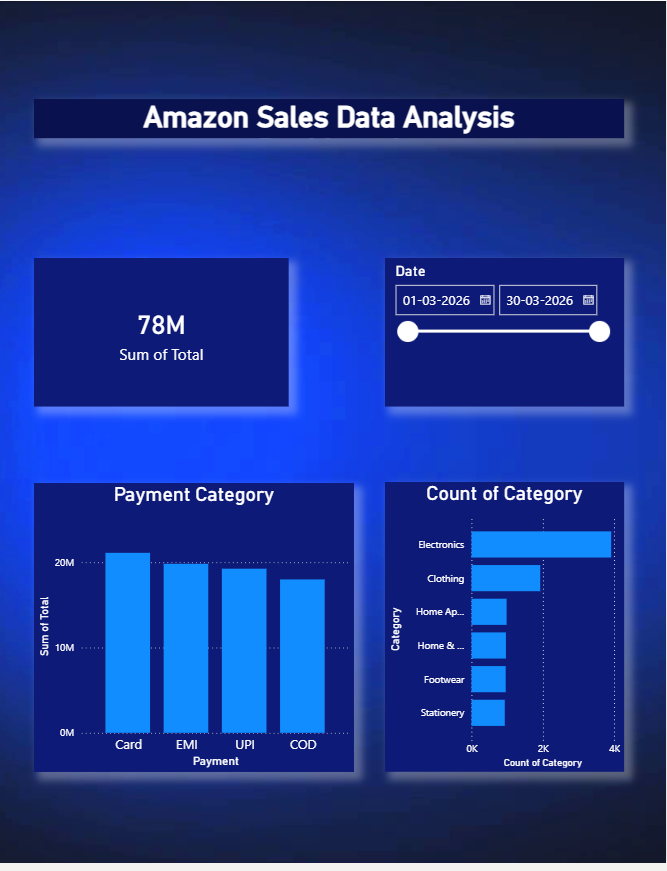

Layout of this report page (visuals, bound fields, positions):
{"tool":"powerbi","page":{"name":"Page 1","canvas":[816,1056],"ordinal":0},"visuals":[{"type":"slicer","fields":{"Values":["Sheet.Date"]},"box":[473.4,314.7,292.6,182.1],"z":0},{"type":"barChart","title":"Count of Category ","fields":{"Category":["Sheet.Category"],"Y":["CountNonNull(Sheet.Category)"]},"box":[472.9,589.3,292.8,355.3],"z":1000},{"type":"columnChart","title":"Payment Category","fields":{"Category":["Sheet.Payment"],"Y":["Sum(Sheet.Total)"]},"box":[42.9,590.5,392,354],"z":2000},{"type":"card","fields":{"Values":["Sum(Sheet.Total)"]},"box":[42.9,314.7,312.1,182.1],"z":3000},{"type":"textbox","title":"Amazon Sales Data Analysis Dashboard","box":[42.9,119.6,723.1,48.1],"z":4000}]}

Visuals, with their boxes in screenshot pixels (x1, y1, x2, y2), scaled from the page's 816x1056 canvas onto the 667x871 screenshot:
slicer - Sheet.Date: x1=387 y1=260 x2=626 y2=410
"Count of Category " barChart: x1=387 y1=486 x2=626 y2=779
"Payment Category" columnChart: x1=35 y1=487 x2=355 y2=779
card - Sum(Sheet.Total): x1=35 y1=260 x2=290 y2=410
"Amazon Sales Data Analysis Dashboard" textbox: x1=35 y1=99 x2=626 y2=138
